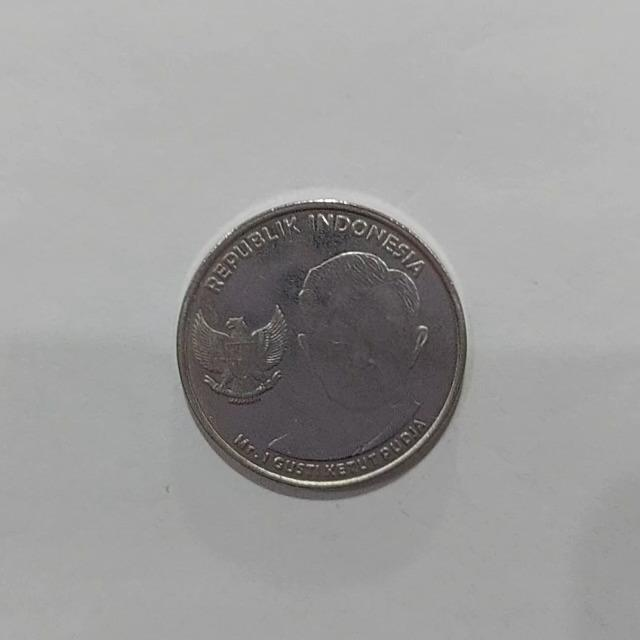Rp100: (174, 193, 468, 497)
